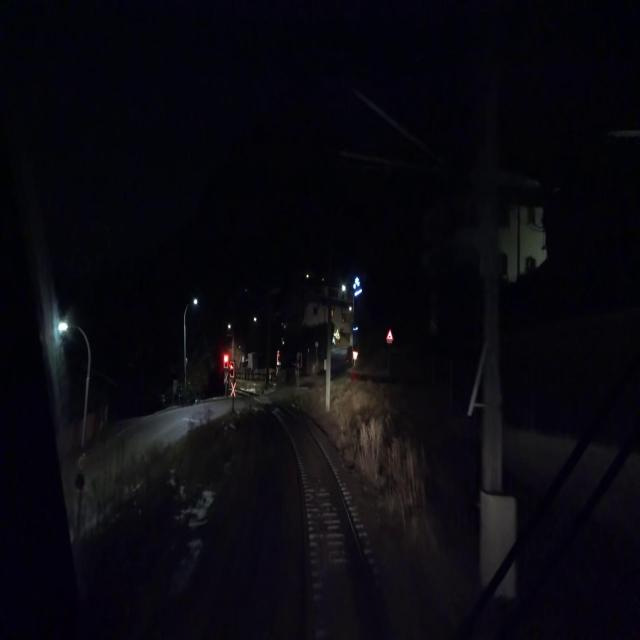rail-track: (262, 400, 384, 639)
